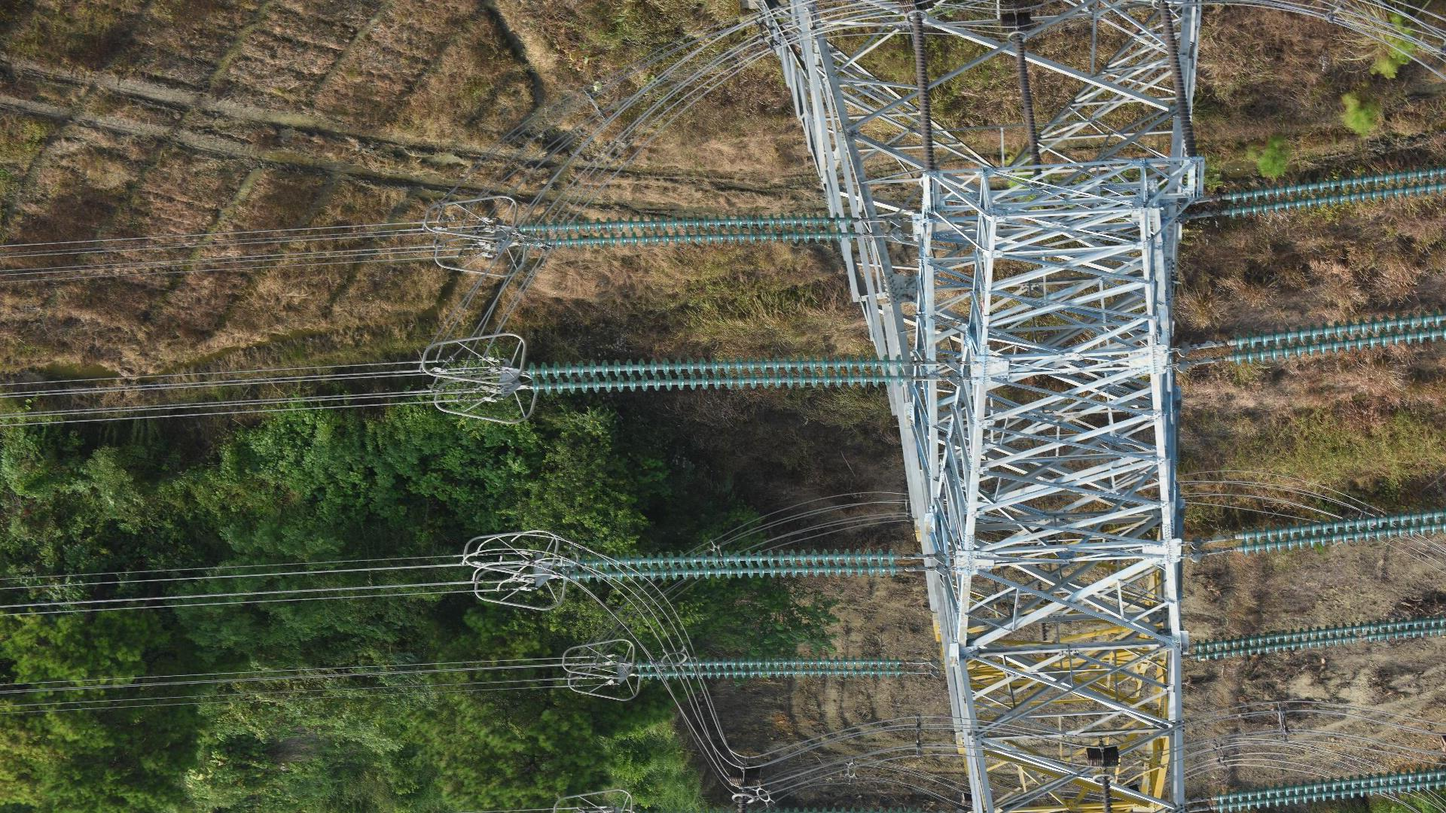insulator: (527, 352, 907, 398), (520, 210, 856, 251), (1192, 611, 1446, 665), (1229, 306, 1446, 368), (1226, 162, 1446, 223), (569, 545, 900, 585), (1214, 763, 1446, 813), (1238, 504, 1446, 559), (633, 653, 904, 683), (1157, 1, 1200, 158), (1011, 33, 1045, 169), (910, 13, 937, 172), (1098, 773, 1115, 813)
insulator_stringdrop: (1348, 629, 1374, 647)
